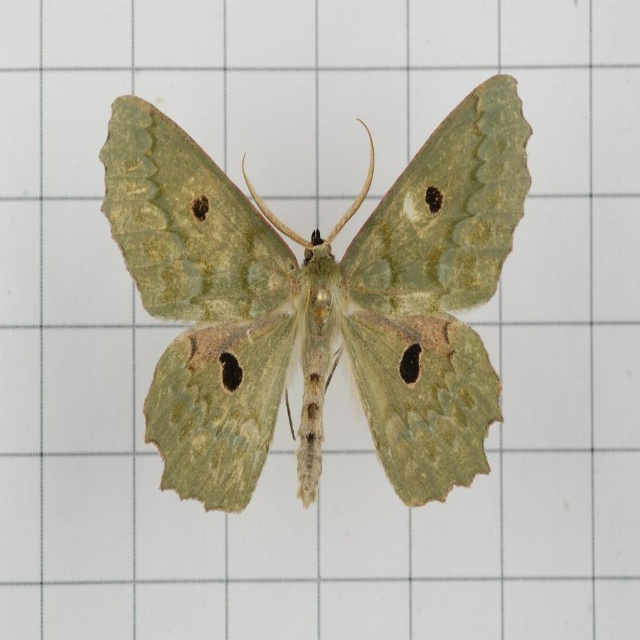Butterfly: (98, 75, 533, 514)
